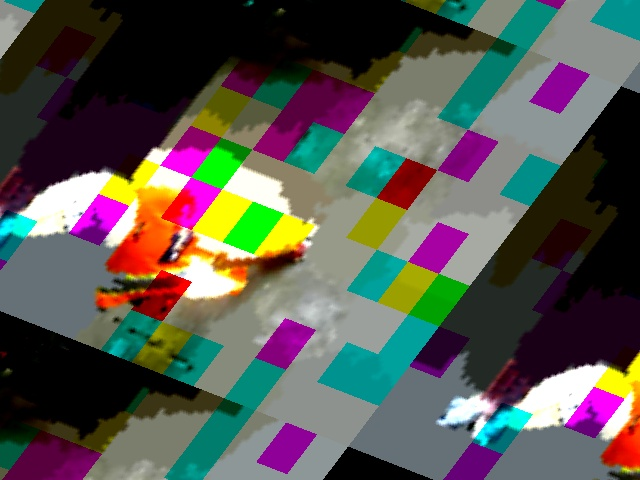two: (52, 192, 111, 238)
